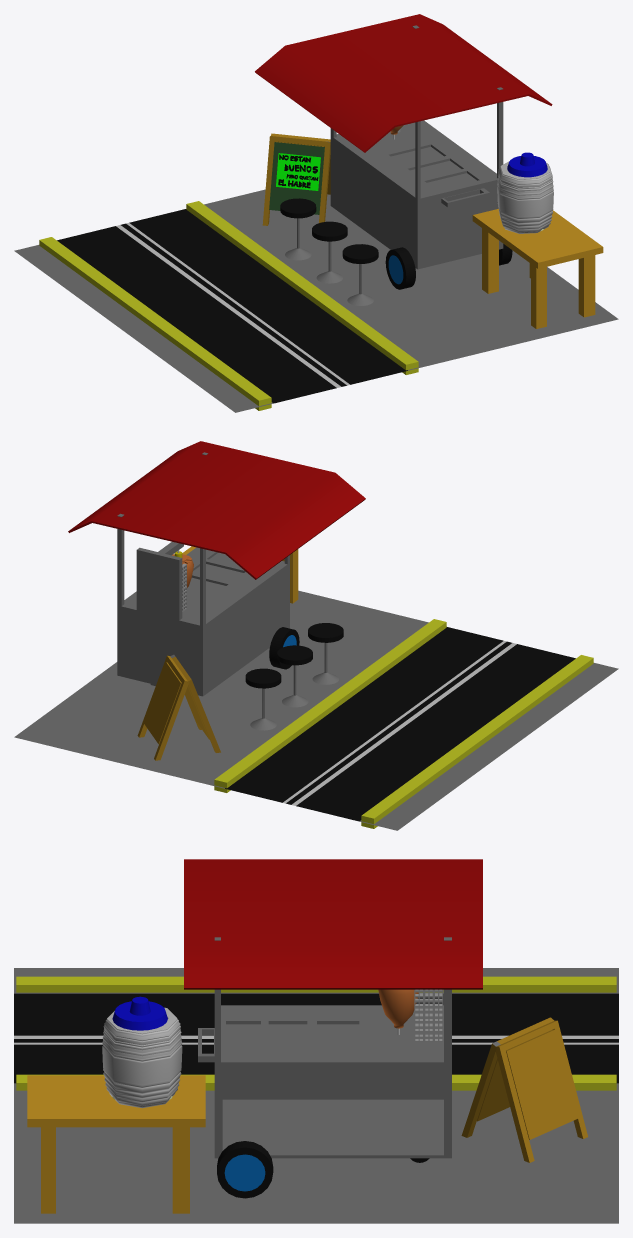
The picture shows the model from 3 angles, top to bottom: view 1: azimuth 30°, elevation 25°; view 2: azimuth 150°, elevation 25°; view 3: azimuth 270°, elevation 25°; orthographic projection. The views are drawn at different scales.
Visible parts, largest first — view 1: Puesto_de_Tacos; view 2: Puesto_de_Tacos; view 3: Puesto_de_Tacos.
Boxes of the visible parts, <box> form: Puesto_de_Tacos: <box>14,14,618,412</box>; Puesto_de_Tacos: <box>14,441,618,830</box>; Puesto_de_Tacos: <box>14,859,618,1223</box>.
Size of the model in its own units: 0.0925 by 0.0443 by 0.0925.
